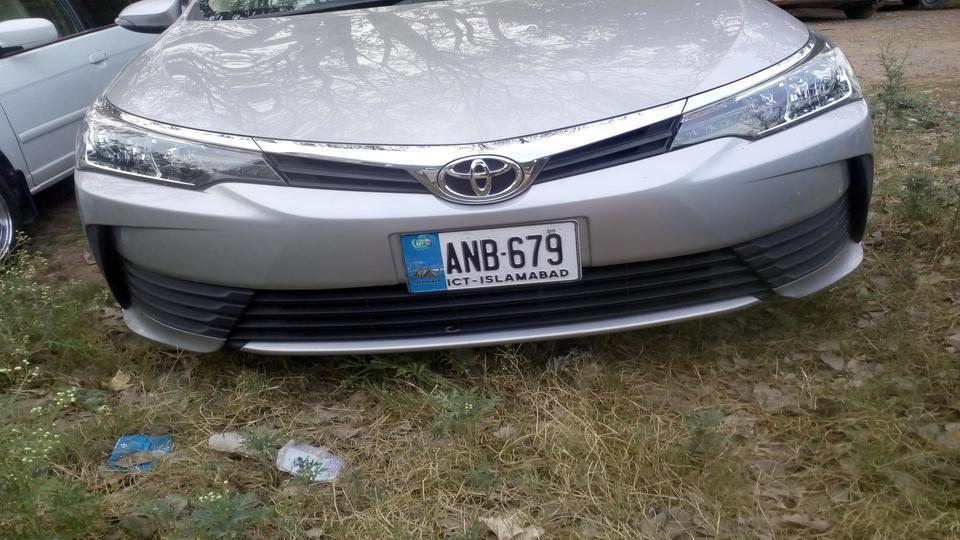NumberPlate: (400, 226, 586, 295)
